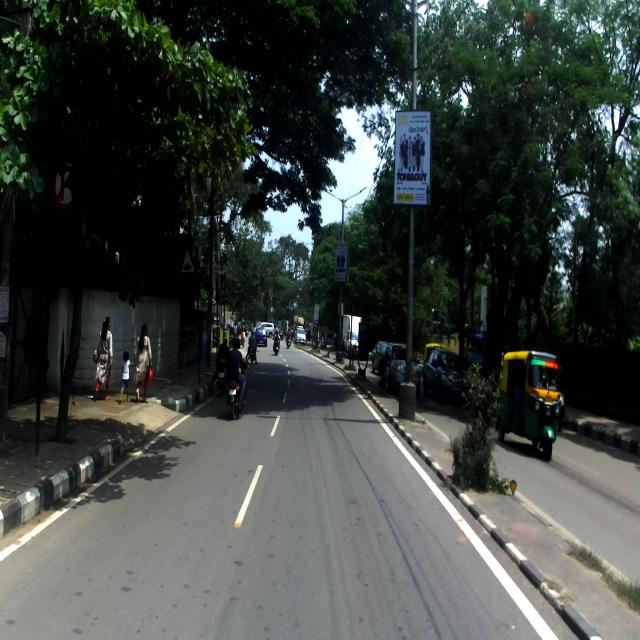autorickshaw: (494, 348, 562, 462)
